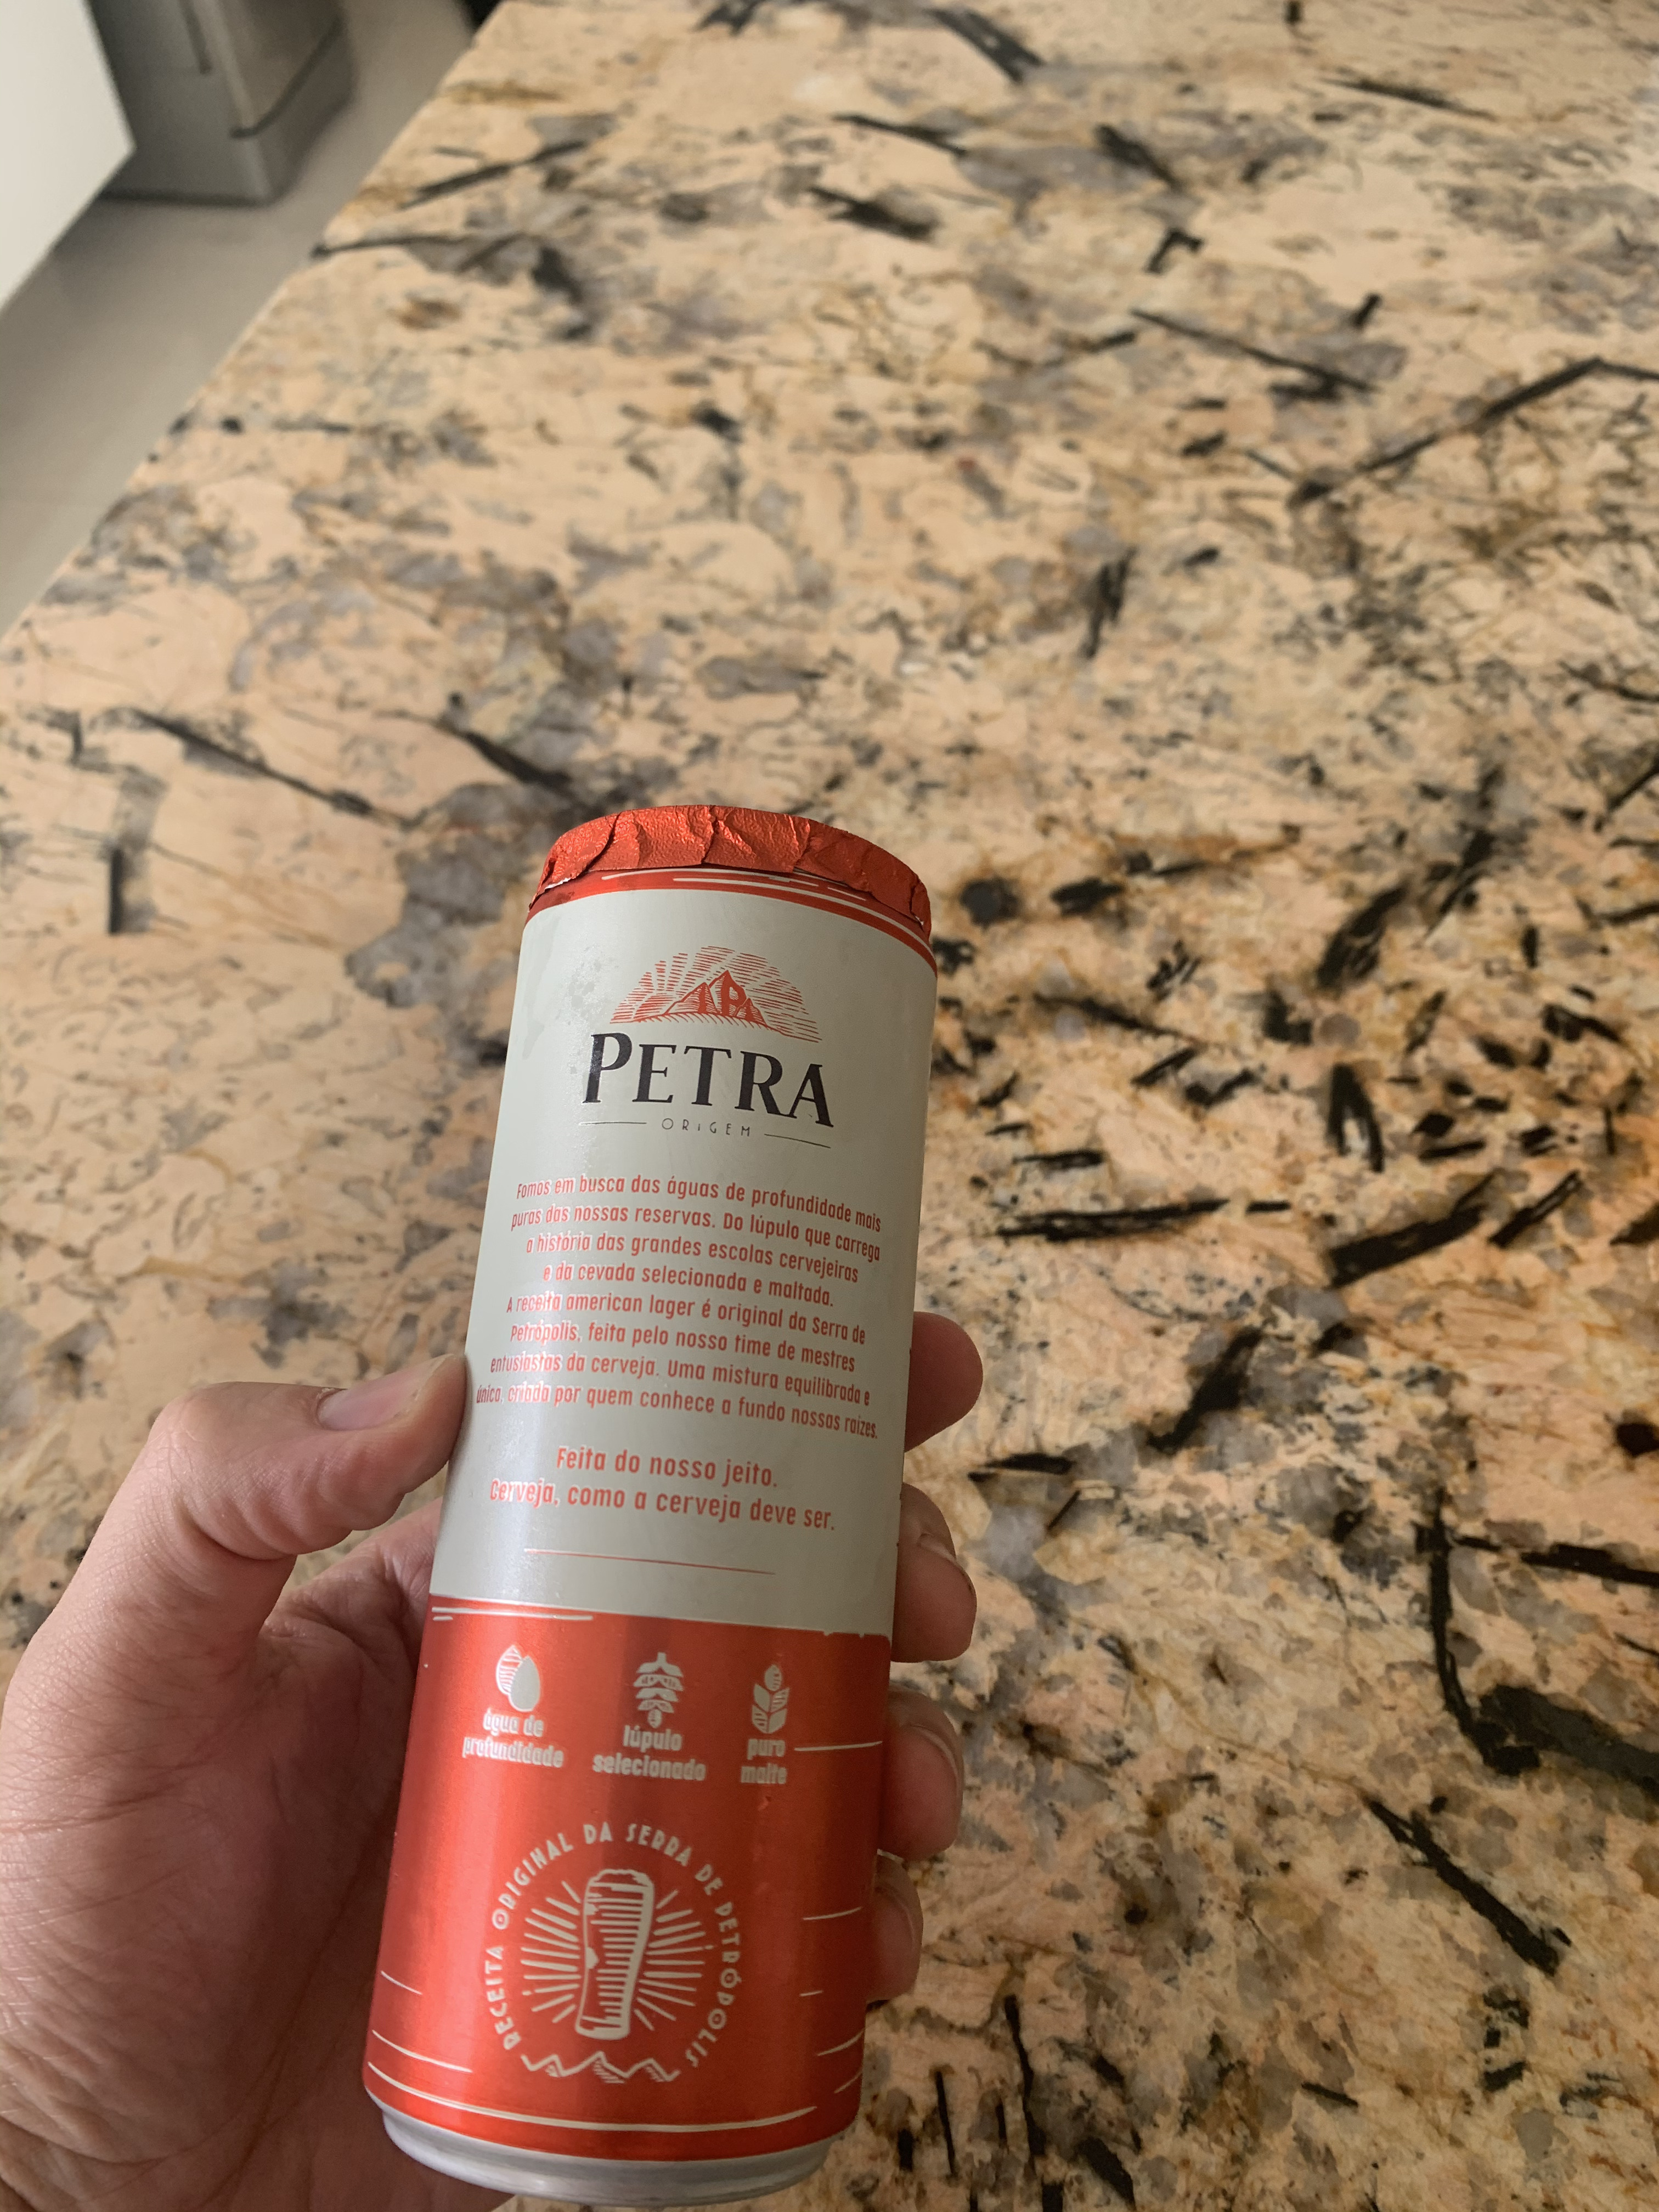petra: (303, 749, 925, 2205)
